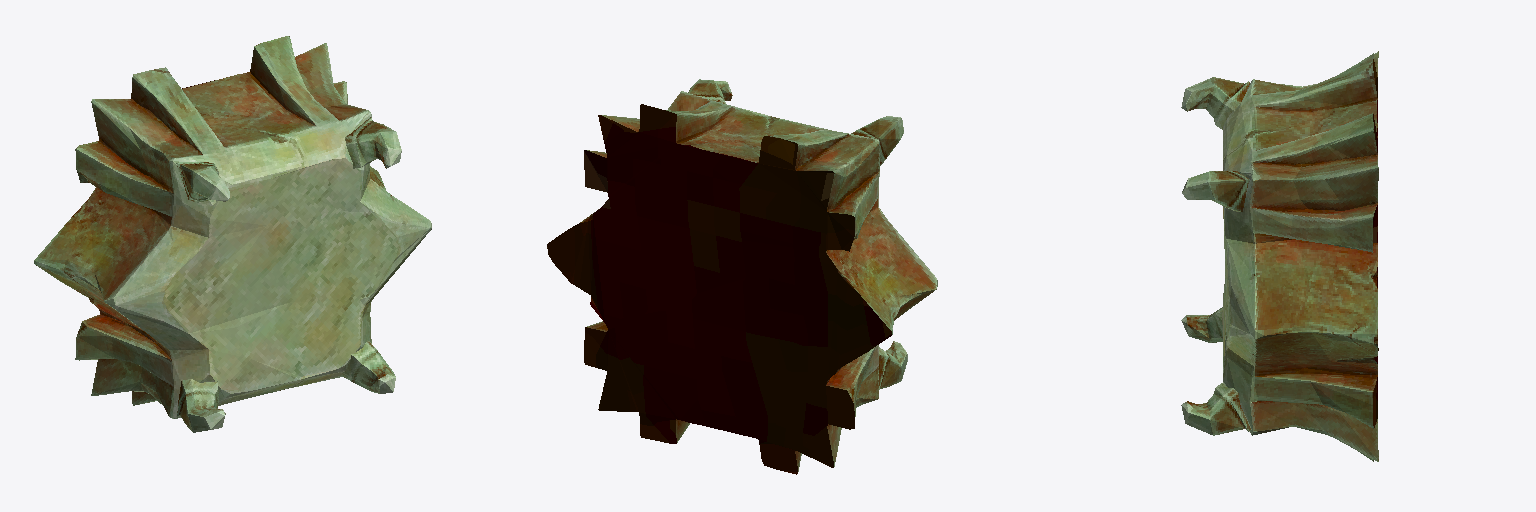
The picture shows the model from 3 angles: view 1: azimuth 30°, elevation 25°; view 2: azimuth 150°, elevation 25°; view 3: azimuth 270°, elevation 25°; orthographic projection.
Parts seen in each view (by area): view 1: Dn_HL_Ruins_Collumn_Base_2M_A; view 2: Dn_HL_Ruins_Collumn_Base_2M_A; view 3: Dn_HL_Ruins_Collumn_Base_2M_A.
Boxes of the visible parts, x1=… form: Dn_HL_Ruins_Collumn_Base_2M_A: x1=34, y1=36, x2=431, y2=432; Dn_HL_Ruins_Collumn_Base_2M_A: x1=547, y1=79, x2=937, y2=474; Dn_HL_Ruins_Collumn_Base_2M_A: x1=1181, y1=51, x2=1378, y2=461.
Size of the model in its own units: 5.9 by 5.42 by 2.91.
1 materials, 1 textured.